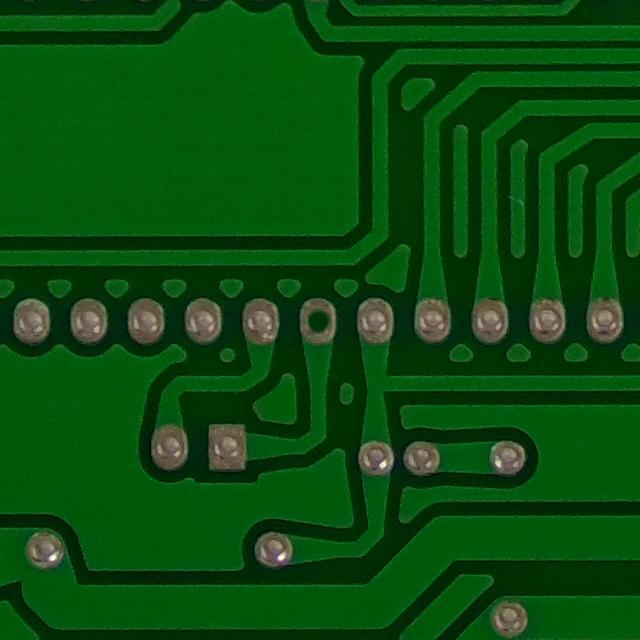missing_hole: (291, 290, 350, 351)
